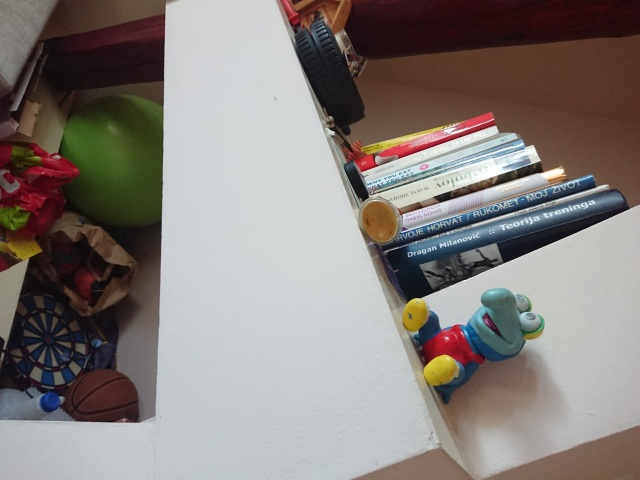Kotanyi Curry Spices Mix 70g: (355, 193, 405, 248)
